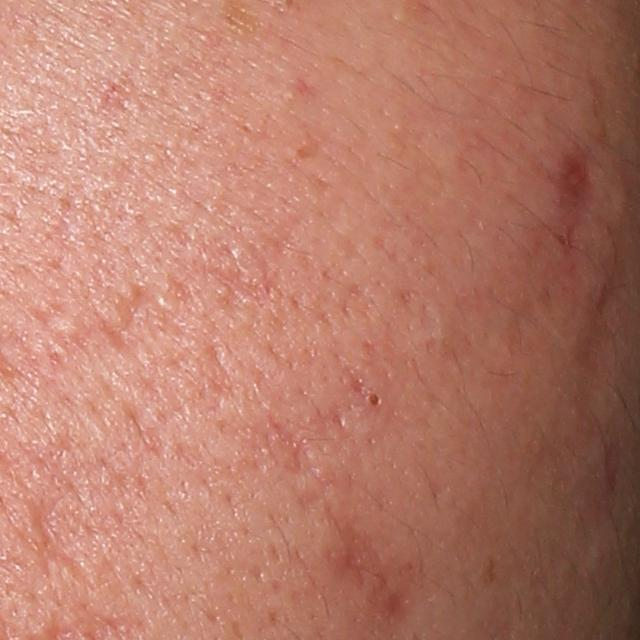atrophic_scar: (325, 518, 422, 638), (254, 410, 348, 474), (29, 496, 94, 588), (107, 281, 159, 359), (558, 149, 607, 218)
comedo: (365, 388, 384, 410)
